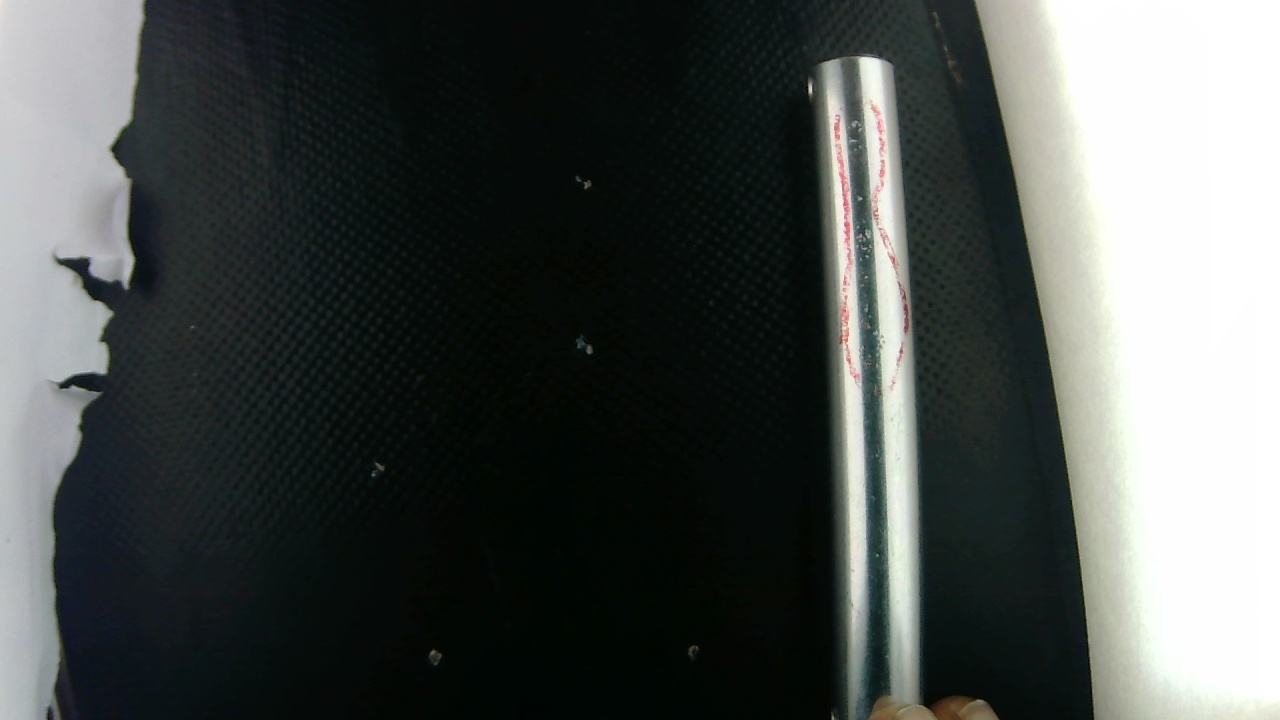pitmark_pin: (838, 111, 891, 390)
